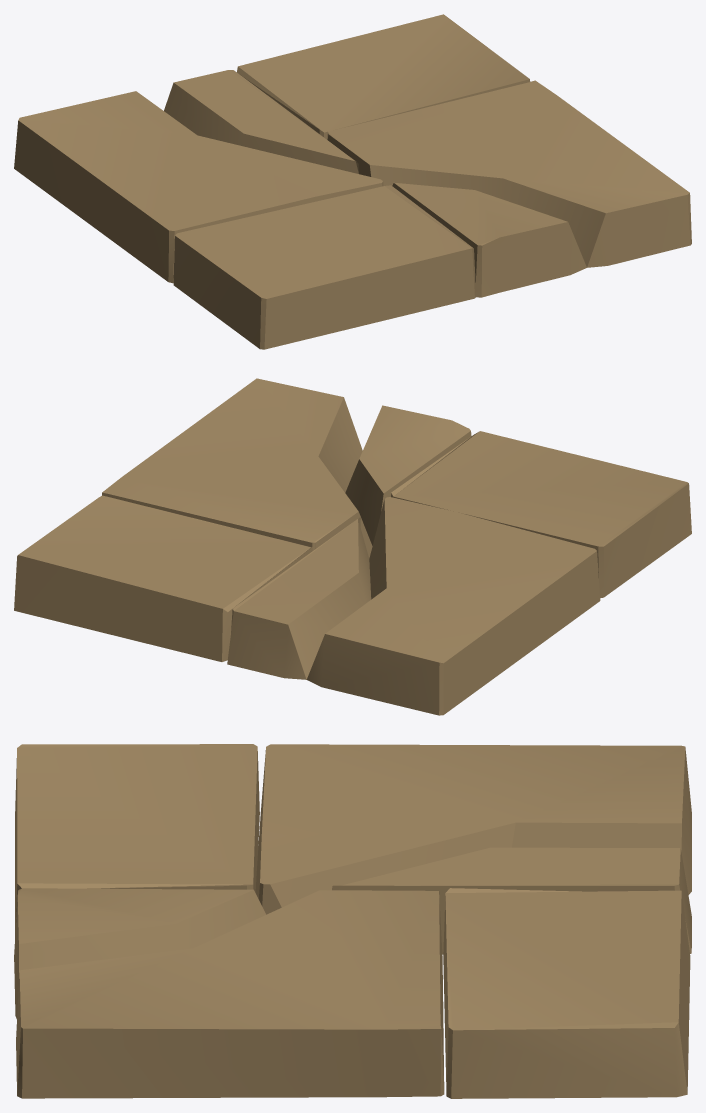
File: FloorTile_Cracked.fbx
3 renders of one model, top to bottom at view 1: azimuth 30°, elevation 25°; view 2: azimuth 150°, elevation 25°; view 3: azimuth 270°, elevation 25°, orthographic. The views are drawn at different scales.
Visible parts, largest first — view 1: FloorTile_Cracked; view 2: FloorTile_Cracked; view 3: FloorTile_Cracked.
Boxes of the visible parts, left/top/right/bottom form: FloorTile_Cracked: left=14, top=14, right=691, bottom=349; FloorTile_Cracked: left=14, top=378, right=691, bottom=715; FloorTile_Cracked: left=14, top=744, right=691, bottom=1098.
Bounding box in the file's own units: 2 × 0.2425 × 2.
